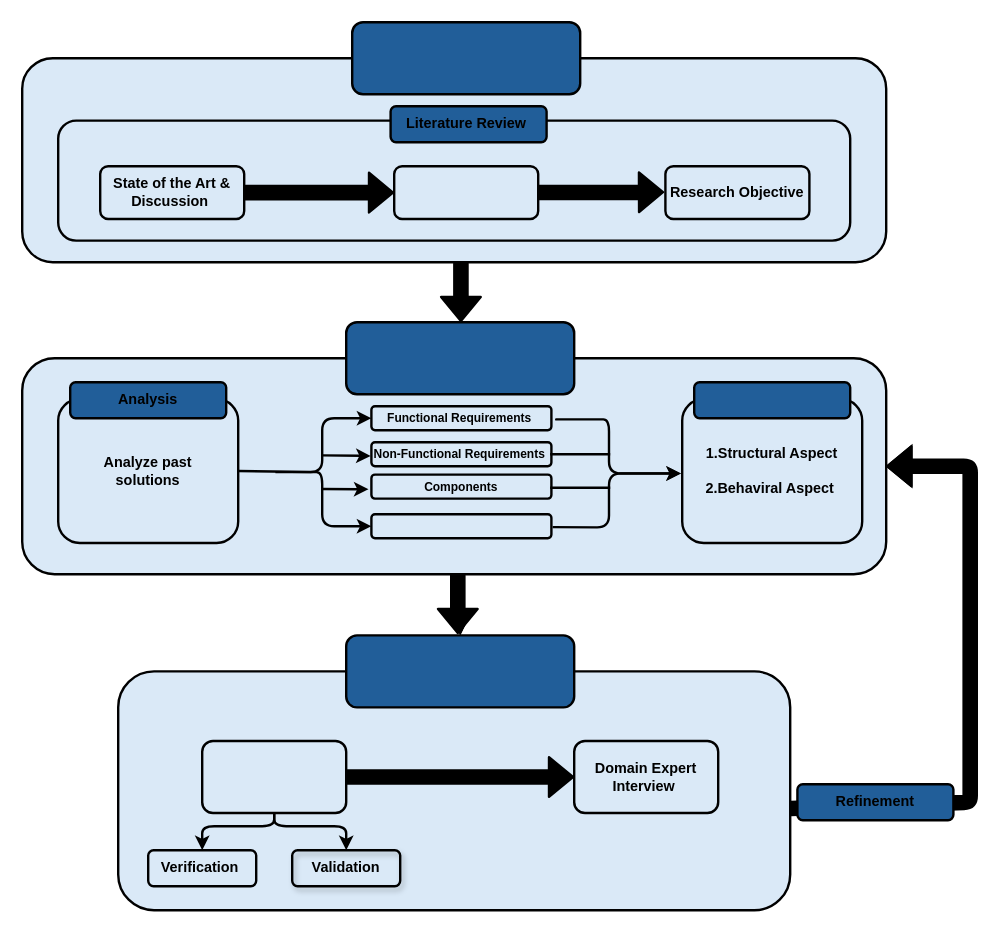
Some shapes in this 998 by 931 pixel diagram are drawn without their labels. The shapes that lost their labels are listed below. From the top down, each one's centre as x and y in pixels, then its label:
At point 465,57: "Problem Identification".
At point 465,192: "Research Gap & Research Question".
At point 459,357: "Design".
At point 771,399: "Conceptual Model".
At point 461,525: "Partial Solutions".
At point 459,671: "Evaluation".
At point 273,776: "Demo".
